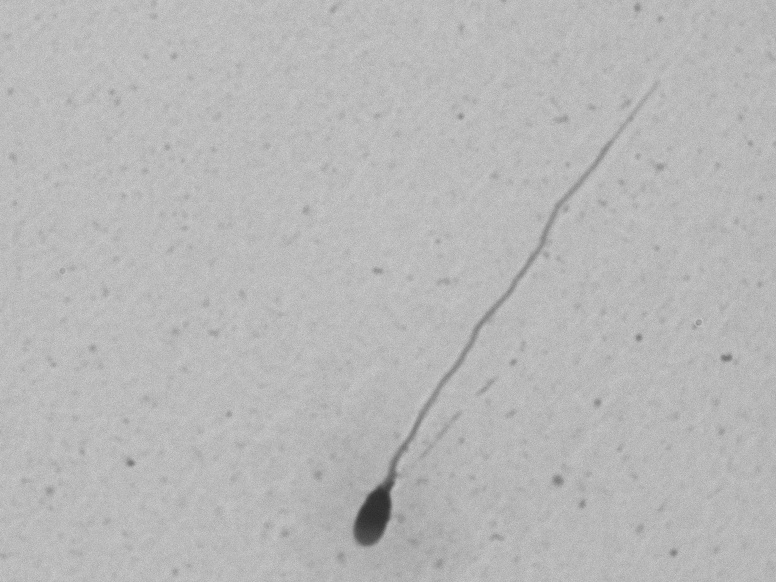Normal: (304, 69, 678, 555)
